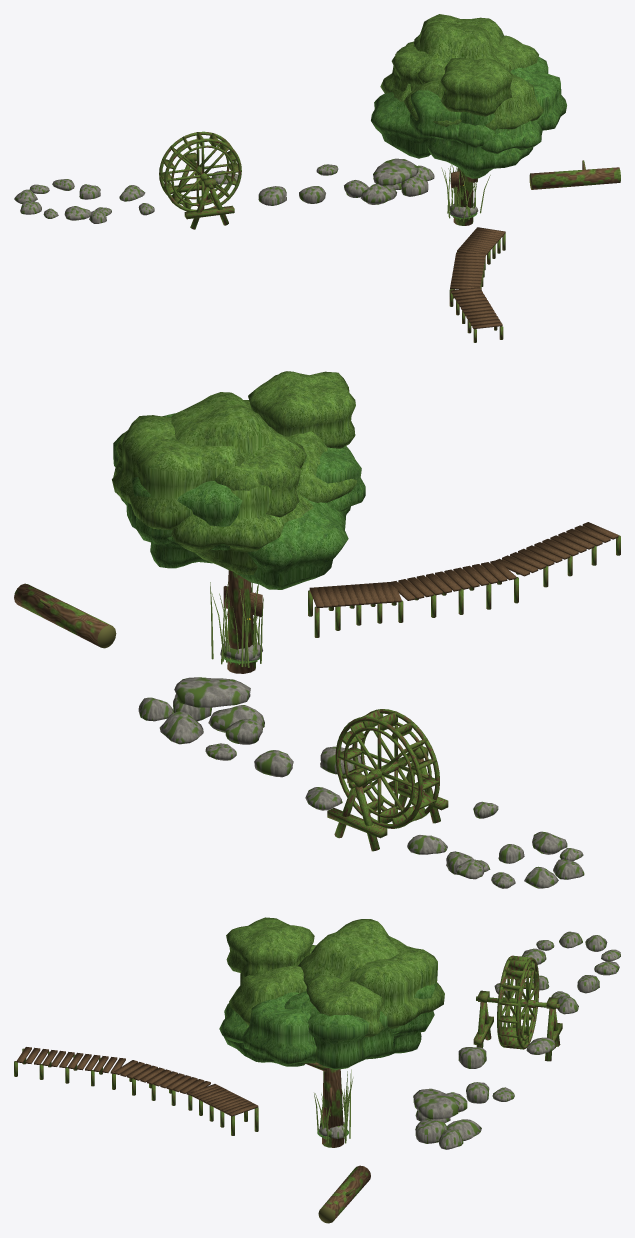
File: bio_props.glb
The picture shows the model from 3 angles, top to bottom: view 1: azimuth 30°, elevation 25°; view 2: azimuth 150°, elevation 25°; view 3: azimuth 270°, elevation 25°; orthographic projection. The views are drawn at different scales.
Parts seen in each view (by area): view 1: tree1_leaves, tree0_leaves, world_boardwalk, wheel, world_den, world_spring, world_streamrocks, world_log, wheel_frame, wheel_blades, world_boardwalk_posts, reed (+1 smaller); view 2: tree1_leaves, tree0_leaves, world_boardwalk, world_den, wheel, world_streamrocks, world_spring, wheel_frame, world_log, wheel_blades, world_boardwalk_posts, tree1_trunk (+1 smaller); view 3: tree1_leaves, tree0_leaves, world_boardwalk, world_den, wheel, world_spring, world_streamrocks, wheel_blades, wheel_frame, world_log, world_boardwalk_posts, tree1_trunk (+2 smaller).
Boxes of the visible parts, x1,y1,x2,y2 form: tree1_leaves: (380,14,543,130); tree0_leaves: (371,53,566,178); world_boardwalk: (450,227,505,328); wheel: (159,131,241,211); world_den: (344,158,434,204); world_spring: (14,179,111,223); world_streamrocks: (119,164,338,215); world_log: (529,160,620,189); wheel_frame: (171,152,234,229); wheel_blades: (159,132,241,209); world_boardwalk_posts: (449,233,505,342); reed: (441,164,490,221); tree1_leaves: (112,371,357,575); tree0_leaves: (113,413,365,589); world_boardwalk: (309,522,618,608); world_den: (138,677,264,744); wheel: (335,709,439,828); world_streamrocks: (205,743,498,854); world_spring: (446,831,584,888); wheel_frame: (327,746,448,851); world_log: (14,583,116,648); wheel_blades: (339,709,439,828); world_boardwalk_posts: (308,535,620,637); tree1_trunk: (227,570,255,673); tree1_leaves: (226,917,444,1037); tree0_leaves: (219,945,437,1069); world_boardwalk: (16,1047,258,1116); world_den: (413,1088,481,1149); wheel: (476,955,560,1049); world_spring: (521,931,620,998); world_streamrocks: (458,983,578,1103); wheel_blades: (498,955,537,1049); wheel_frame: (473,990,562,1061); world_log: (318,1165,370,1223); world_boardwalk_posts: (14,1048,258,1135); tree1_trunk: (322,1068,344,1147).
Bounding box in the file's own units: 11.43 × 4.37 × 10.66.
10 materials, 7 textured.
